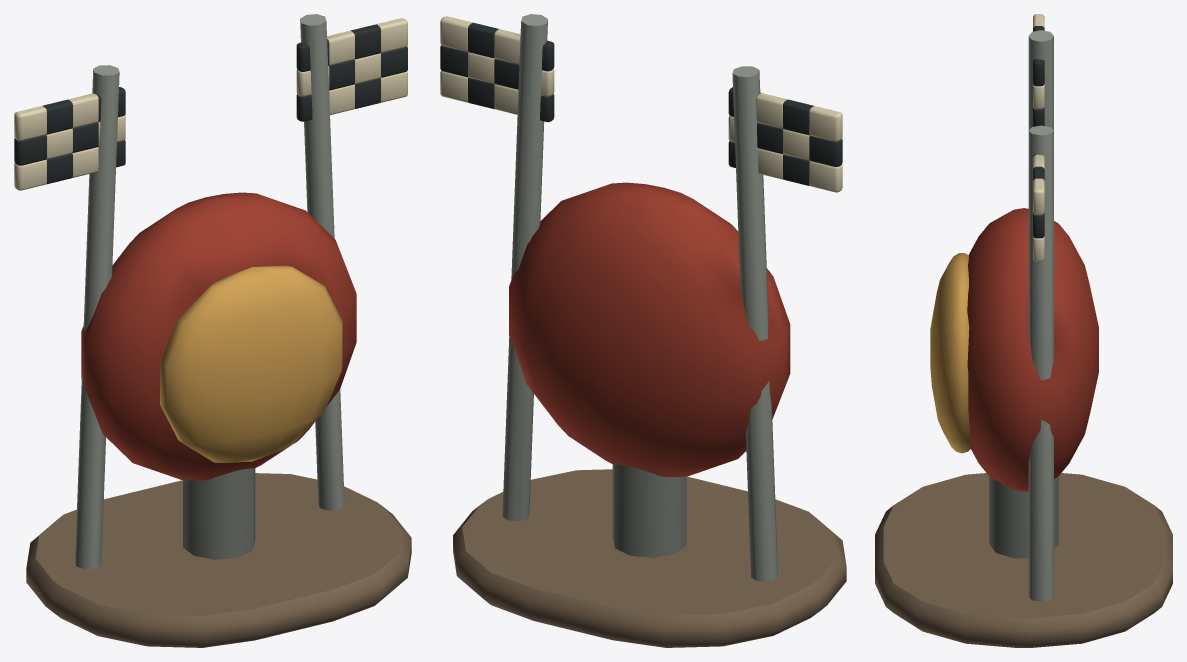
File: event_sport.glb
3 renders of one model, left to right at view 1: azimuth 30°, elevation 25°; view 2: azimuth 150°, elevation 25°; view 3: azimuth 270°, elevation 25°, orthographic. The views are drawn at different scales.
Parts seen in each view (by area): view 1: EventSport; view 2: EventSport; view 3: EventSport.
Part boxes in pixels (x1,y1,x2,y2): EventSport: (14,14,411,647); EventSport: (440,14,846,647); EventSport: (875,14,1172,647).
Size of the model in its own units: 1.22 by 1.57 by 0.86.
